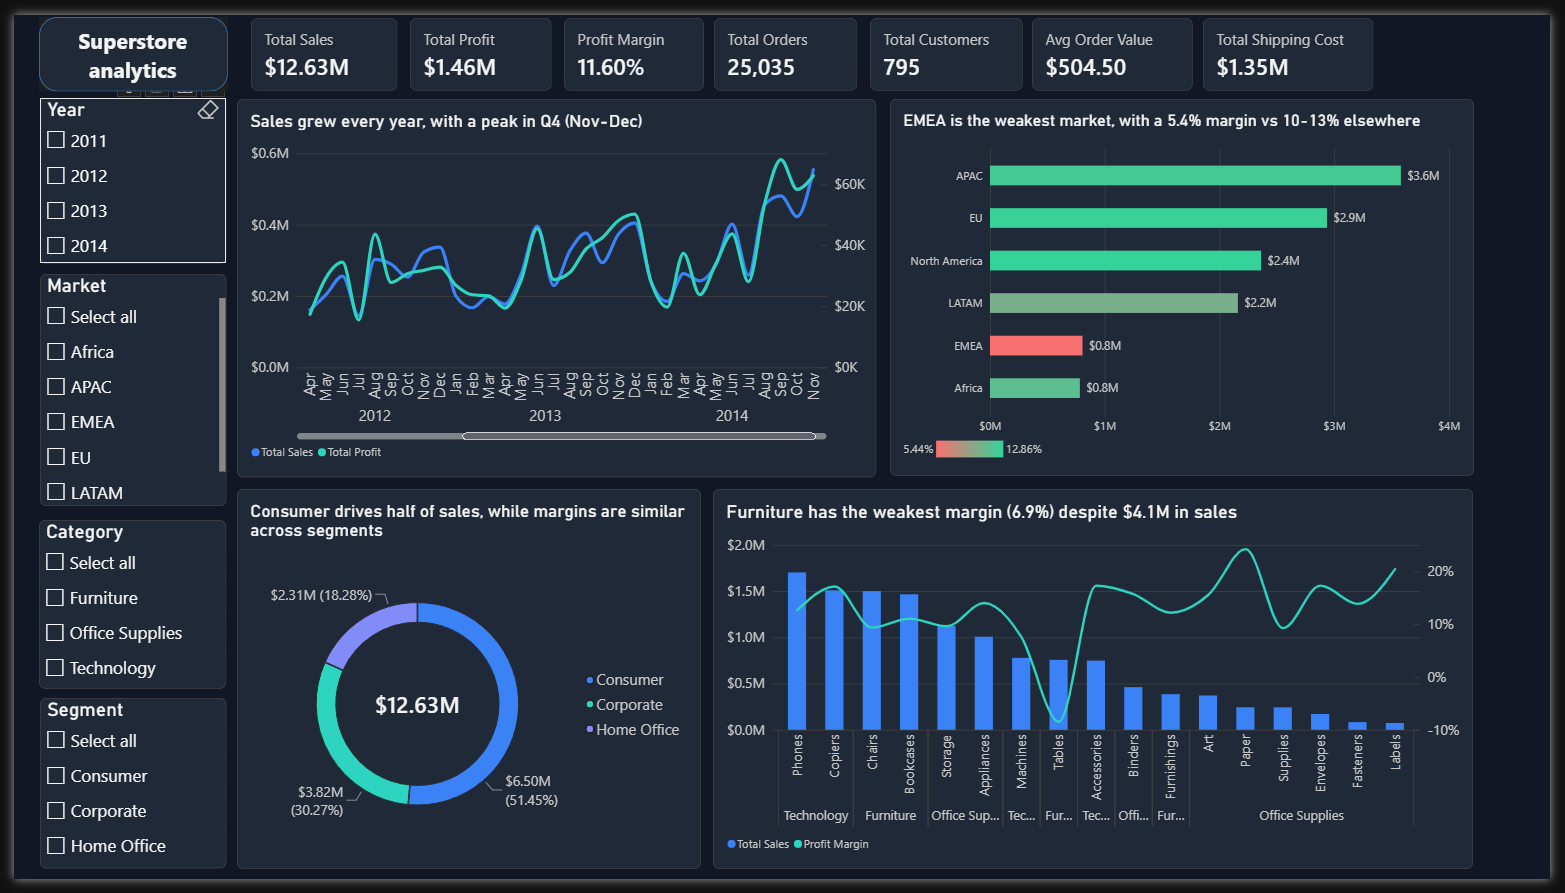

This screenshot's page, from the dashboard's own definition file:
{"tool":"powerbi","page":{"name":"Overview","canvas":[1920,1080],"ordinal":0},"visuals":[{"type":"cardVisual","fields":{"Data":["superstore.Total Sales"]},"box":[296.3,3.9,183.7,91.9],"z":0},{"type":"cardVisual","fields":{"Data":["superstore.Total Profit"]},"box":[495.5,3.9,177.3,91.9],"z":1000},{"type":"cardVisual","fields":{"Data":["superstore.Profit Margin"]},"box":[687,3.9,176,91.9],"z":2000},{"type":"cardVisual","fields":{"Data":["superstore.Total Orders Display"]},"box":[874.6,3.9,179.8,91.9],"z":3000},{"type":"cardVisual","fields":{"Data":["superstore.Total Customers"]},"box":[1070,3.9,191.5,91.9],"z":4000},{"type":"cardVisual","fields":{"Data":["superstore.Avg Order Value"]},"box":[1273.1,3.9,201.8,91.9],"z":5000},{"type":"slicer","fields":{"Values":["Calendar.Year"]},"box":[32.3,103.5,232.9,207],"z":6000},{"type":"slicer","fields":{"Values":["superstore.Market2"]},"box":[32.3,323.5,232.9,289.8],"z":7000},{"type":"slicer","fields":{"Values":["superstore.Category"]},"box":[31.1,631.4,234.2,210.9],"z":8000},{"type":"slicer","fields":{"Values":["superstore.Segment"]},"box":[32.3,853.9,232.9,213.5],"z":9000},{"type":"lineChart","title":"Sales grew every year, with a peak in Q4 (Nov-Dec)","fields":{"Category":["Calendar.Year","Calendar.Month"],"Y":["superstore.Total Sales"],"Y2":["superstore.Total Profit"]},"box":[278.8,105,798.8,472.5],"z":10000},{"type":"clusteredBarChart","title":"EMEA is the weakest market, with a 5.4% margin vs 10-13% elsewhere","fields":{"Category":["superstore.Market2"],"Y":["superstore.Total Sales"]},"box":[1094.6,104.8,729.7,470.9],"z":11000},{"type":"donutChart","title":"Consumer drives half of sales, while margins are similar across segments","fields":{"Category":["superstore.Segment"],"Y":["superstore.Total Sales"]},"box":[278.8,592.5,580,475],"z":12000},{"type":"lineClusteredColumnComboChart","title":"Furniture has the weakest margin (6.9%) despite $4.1M in sales","fields":{"Category":["superstore.Category","superstore.Sub.Category"],"Y":["superstore.Total Sales"],"Y2":["superstore.Profit Margin"]},"box":[873.8,592.5,950,475],"z":13000},{"type":"shape","box":[31.1,2.6,236.4,93.2],"z":14000},{"type":"textbox","box":[45.3,14.2,207,90.6],"z":15000},{"type":"cardVisual","fields":{"Data":["superstore.Total Shipping Cost"]},"box":[1486.6,3.9,213.5,91.9],"z":16000}]}

Visuals, with their boxes in screenshot pixels (x1, y1, x2, y2), scaled from the page's 1920x1080 canvas onto the 1565x893 screenshot:
cardVisual - superstore.Total Sales: x1=242, y1=3, x2=391, y2=79
cardVisual - superstore.Total Profit: x1=404, y1=3, x2=548, y2=79
cardVisual - superstore.Profit Margin: x1=560, y1=3, x2=703, y2=79
cardVisual - superstore.Total Orders Display: x1=713, y1=3, x2=859, y2=79
cardVisual - superstore.Total Customers: x1=872, y1=3, x2=1028, y2=79
cardVisual - superstore.Avg Order Value: x1=1038, y1=3, x2=1202, y2=79
slicer - Calendar.Year: x1=26, y1=86, x2=216, y2=257
slicer - superstore.Market2: x1=26, y1=267, x2=216, y2=507
slicer - superstore.Category: x1=25, y1=522, x2=216, y2=696
slicer - superstore.Segment: x1=26, y1=706, x2=216, y2=883
"Sales grew every year, with a peak in Q4 (Nov-Dec)" lineChart: x1=227, y1=87, x2=878, y2=478
"EMEA is the weakest market, with a 5.4% margin vs 10-13% elsewhere" clusteredBarChart: x1=892, y1=87, x2=1487, y2=476
"Consumer drives half of sales, while margins are similar across segments" donutChart: x1=227, y1=490, x2=700, y2=883
"Furniture has the weakest margin (6.9%) despite $4.1M in sales" lineClusteredColumnComboChart: x1=712, y1=490, x2=1487, y2=883
shape: x1=25, y1=2, x2=218, y2=79
textbox: x1=37, y1=12, x2=206, y2=87
cardVisual - superstore.Total Shipping Cost: x1=1212, y1=3, x2=1386, y2=79
